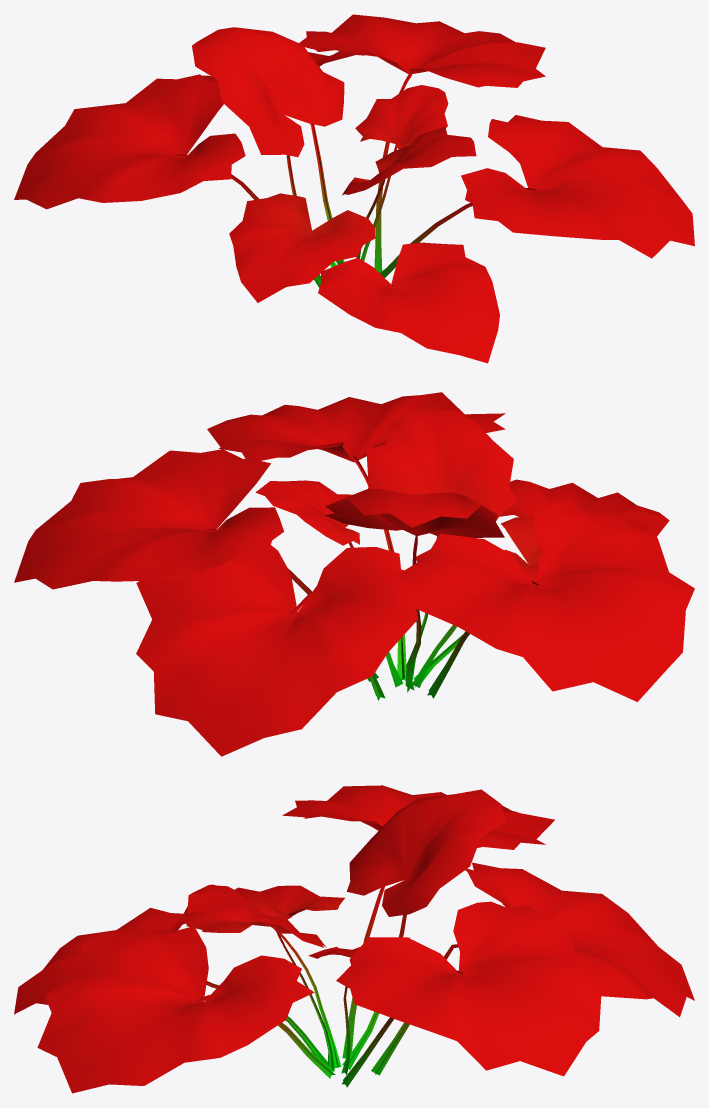
Rendered from Coltsfoot_LOD2_Var10_xbtkdfvqx.fbx.
3 views of the same model, one above another, from view 1: azimuth 30°, elevation 25°; view 2: azimuth 150°, elevation 25°; view 3: azimuth 270°, elevation 25° (orthographic). The views are drawn at different scales.
Parts seen in each view (by area): view 1: _pbax_Var10_LOD2; view 2: _pbax_Var10_LOD2; view 3: _pbax_Var10_LOD2.
Part boxes in pixels (x1,y1,x2,y2): _pbax_Var10_LOD2: [14, 14, 694, 363]; _pbax_Var10_LOD2: [14, 392, 694, 756]; _pbax_Var10_LOD2: [14, 785, 694, 1093].
Size of the model in its own units: 64.27 by 26.43 by 67.64.
